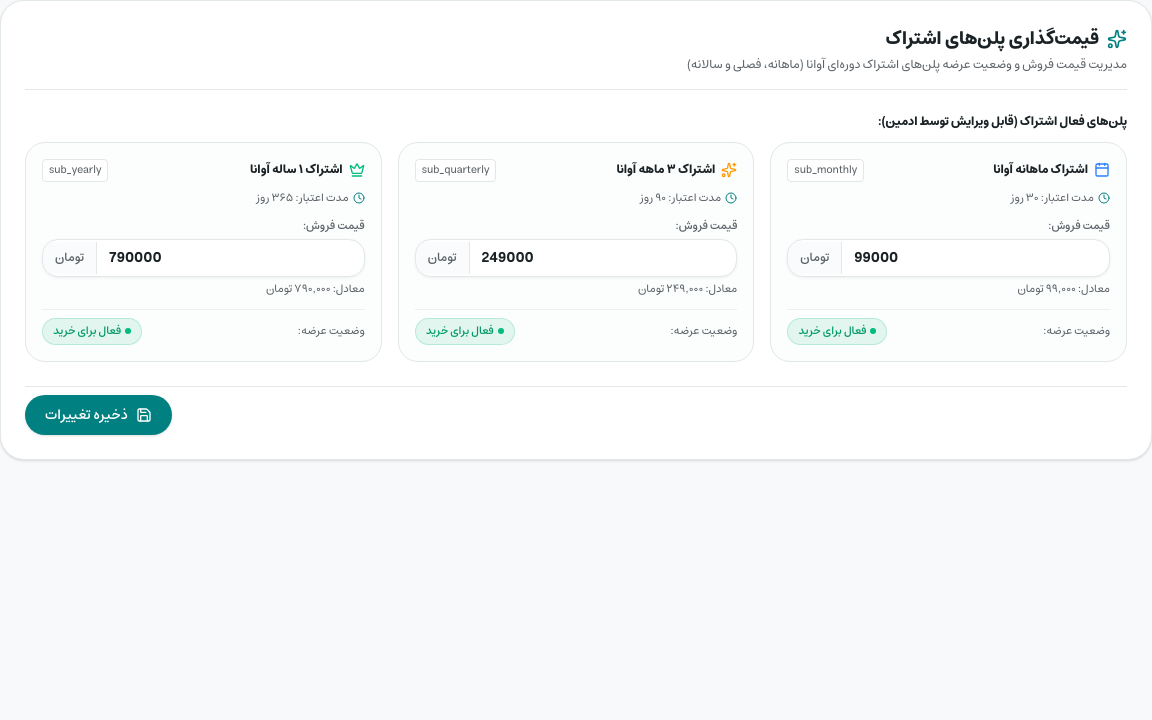
it: Admin Subscription & Special Exam Pricing UI Suite › 3. Successfully submits updated subscription prices via updateCommerceProduct
The width and height of the screenshot is (1152, 720).
Replace the text in the number field named "قیمت اشتراک ماهانه آوانا" with "119000": [976, 258] box [842,240,1109,276]
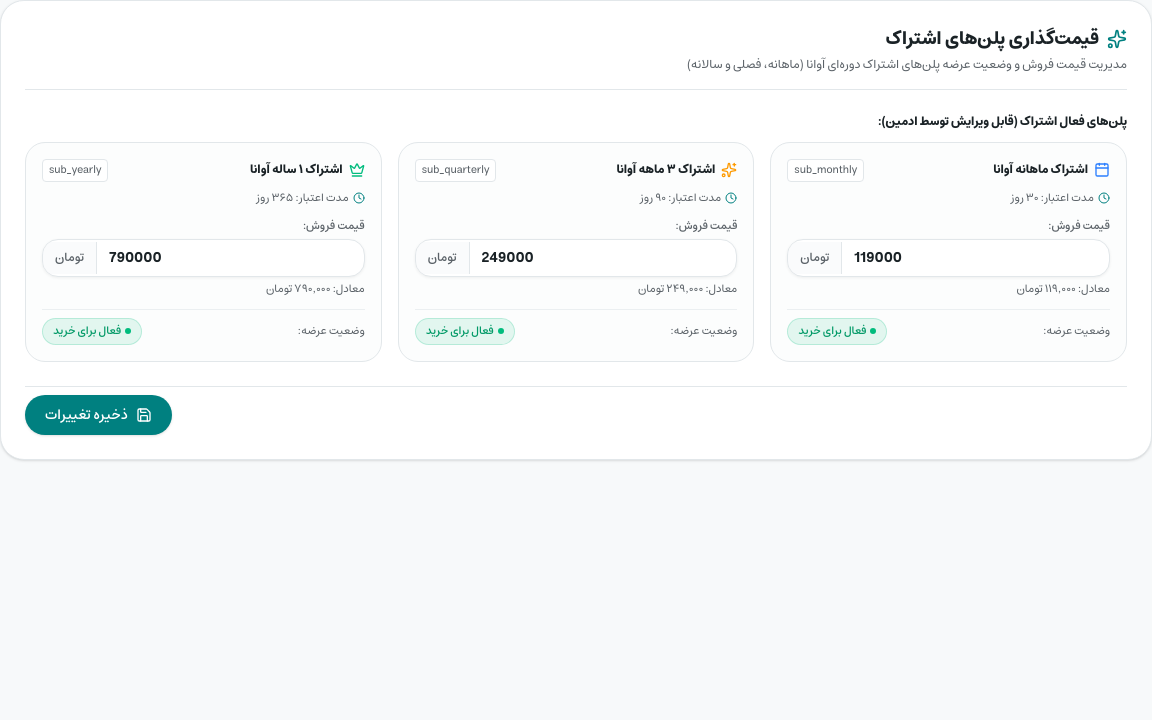
Click the button "ذخیره تغییرات": [98, 414] box [25,394,172,434]
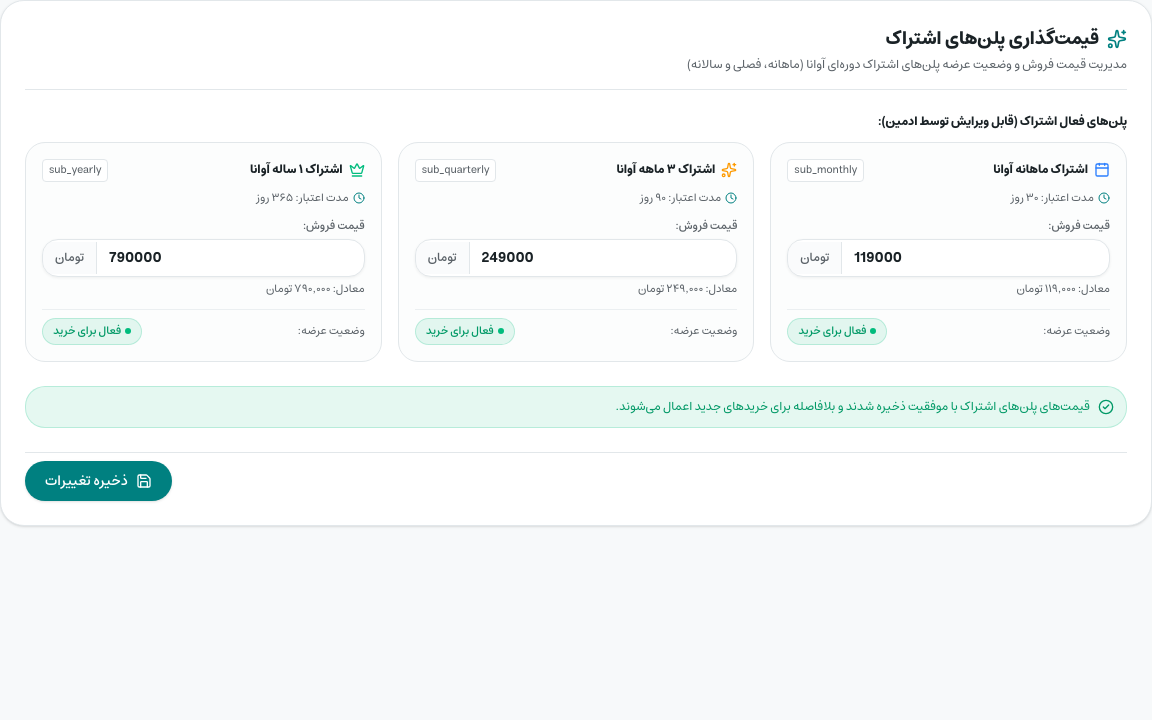
Now the text "قیمت‌های پلن‌های اشتراک با موفقیت ذخیره شدند" is shown, box [616,396,1090,416]
